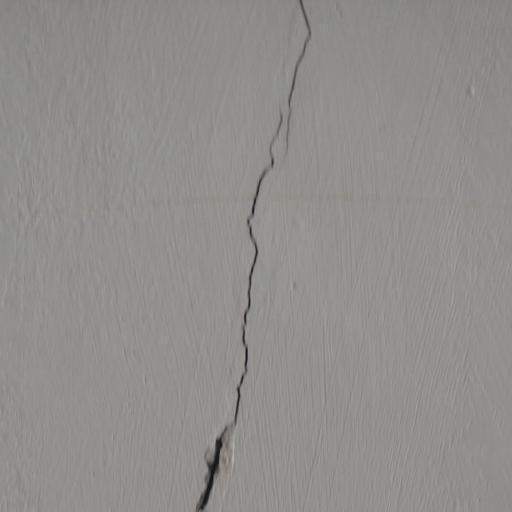major_crack: (191, 0, 325, 512)
